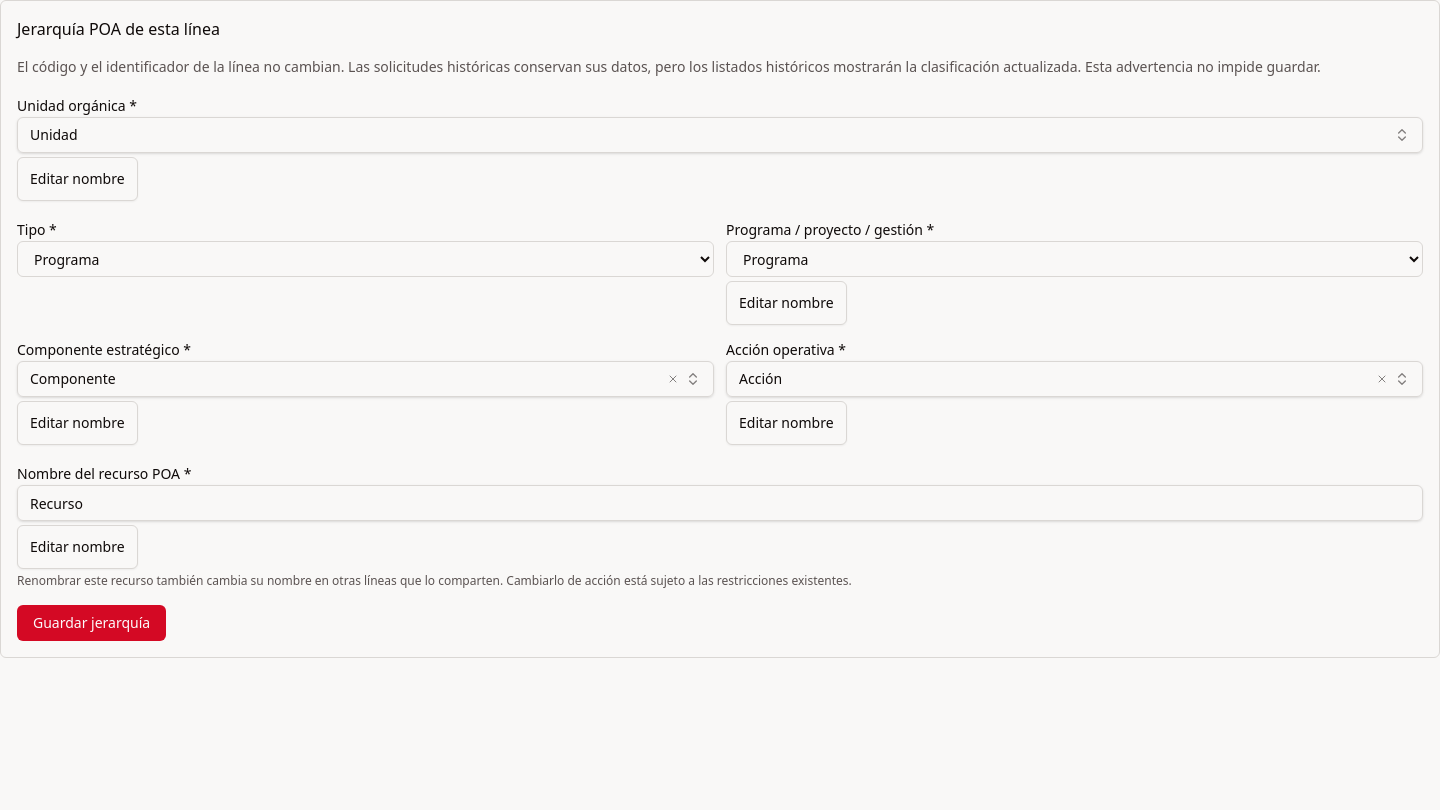
renombrar catálogo desde la jerarquía › PATCH de Recurso POA usa solo name y conserva ID
Click the button with aria-label "Editar nombre de Recurso POA" at (77, 547), box [17,525,138,569]
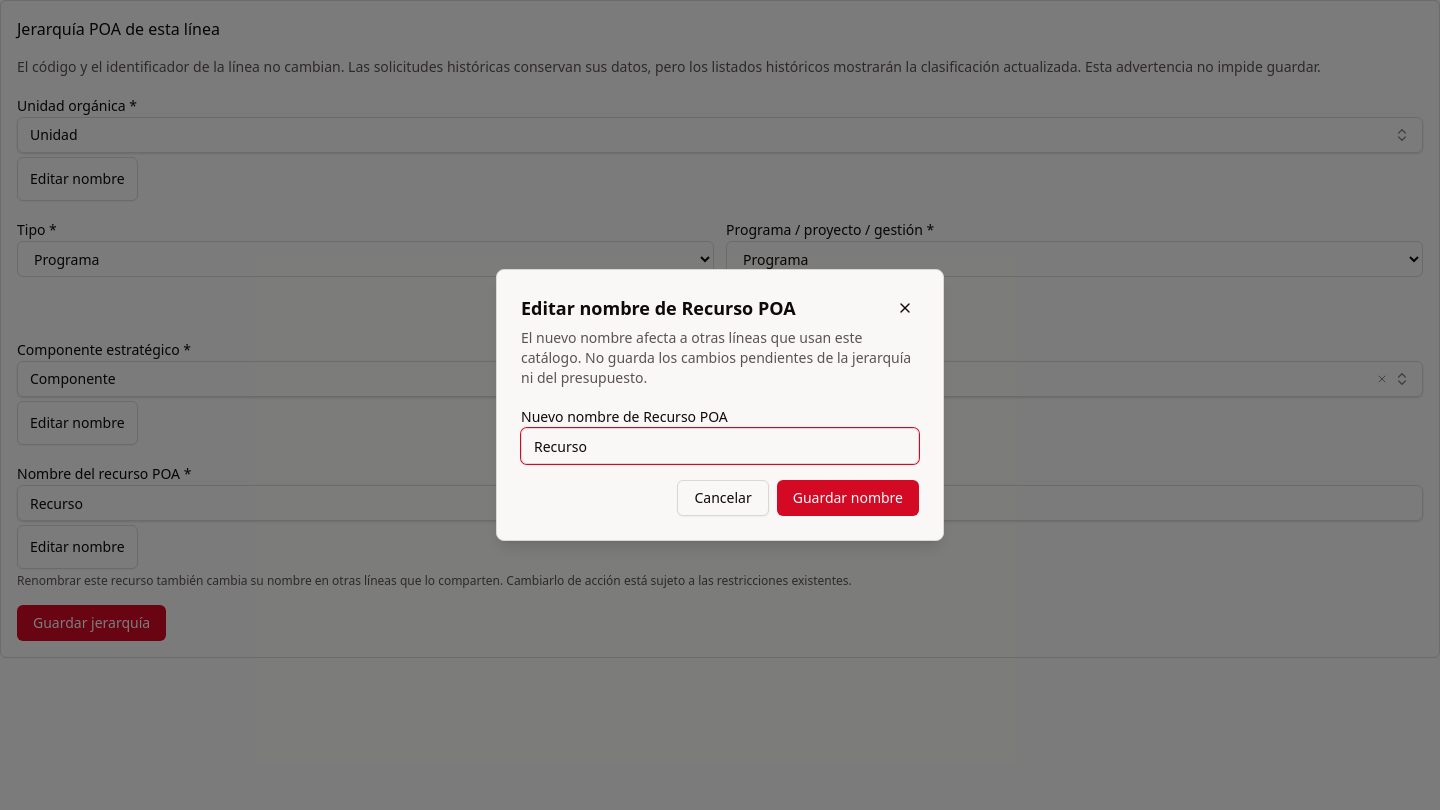
Replace the text in the field labelled "Nuevo nombre de Recurso POA" with "  Nuevo  " at (720, 446), box [521,428,919,464]
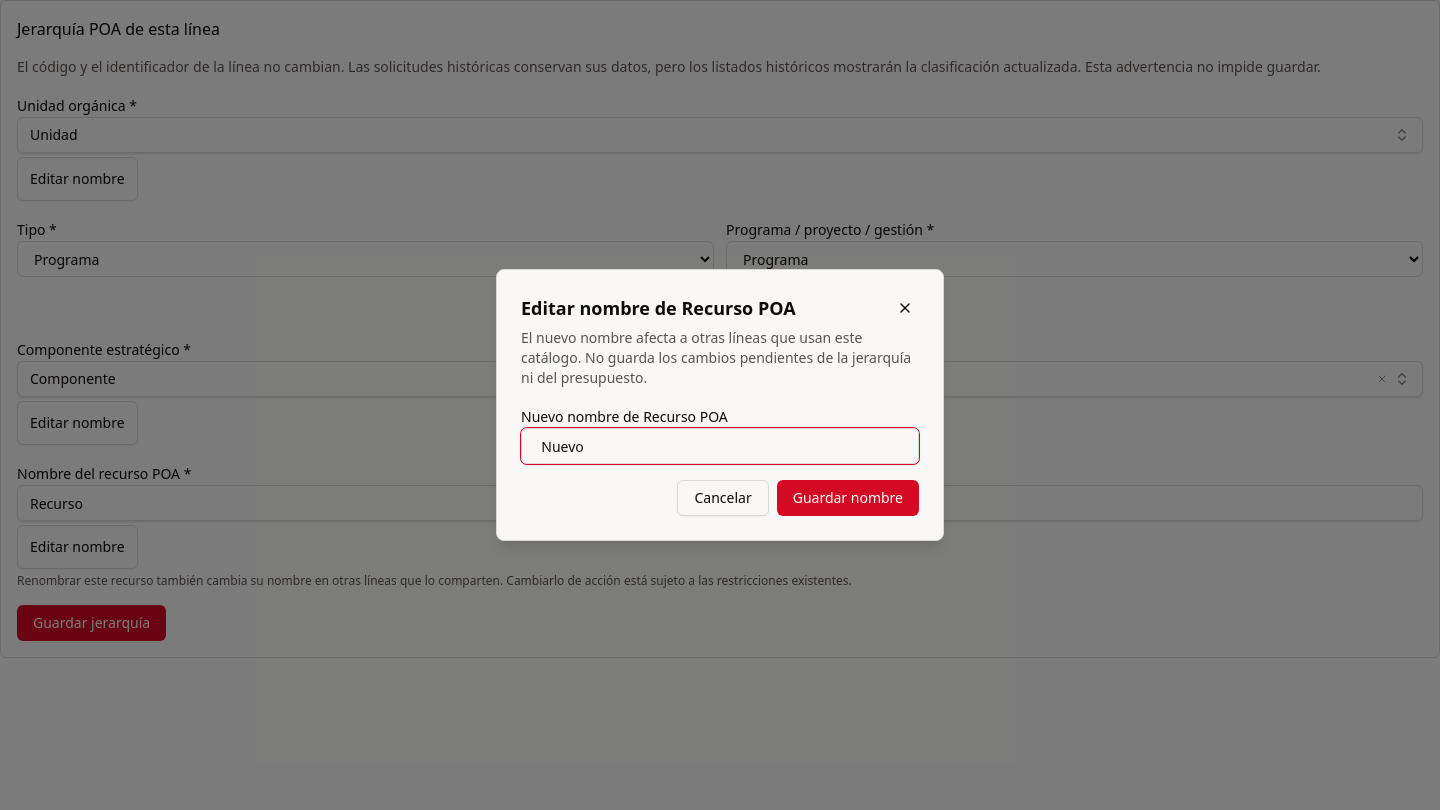
Click the button "Guardar nombre" at (848, 498), box [777,480,919,516]
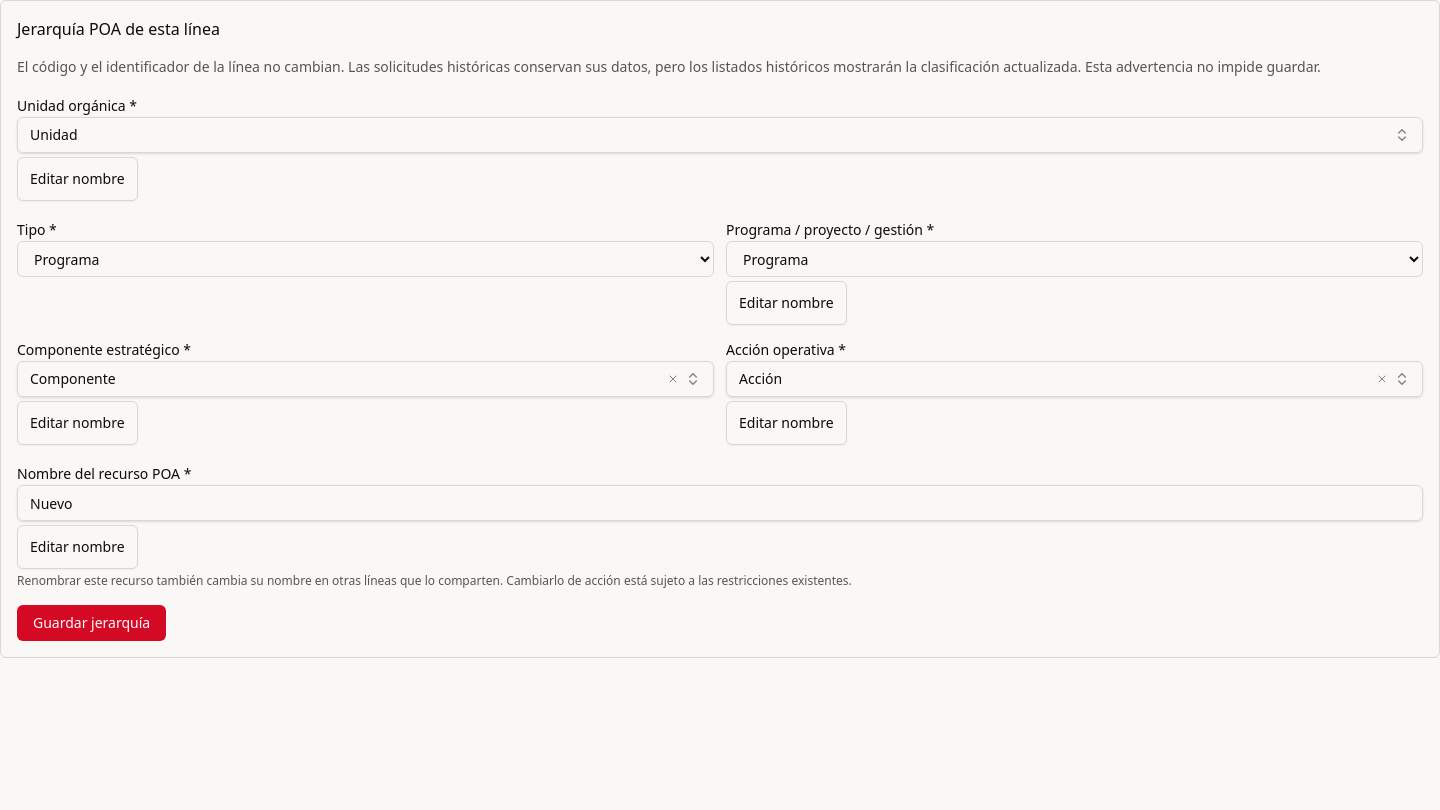
Expected: the dropdown labelled "Programa / proyecto / gestión *" shows "Programa", [726,241,1423,277]
Expected: the field labelled "Nombre del recurso POA *" holds "Nuevo", [17,485,1423,521]
